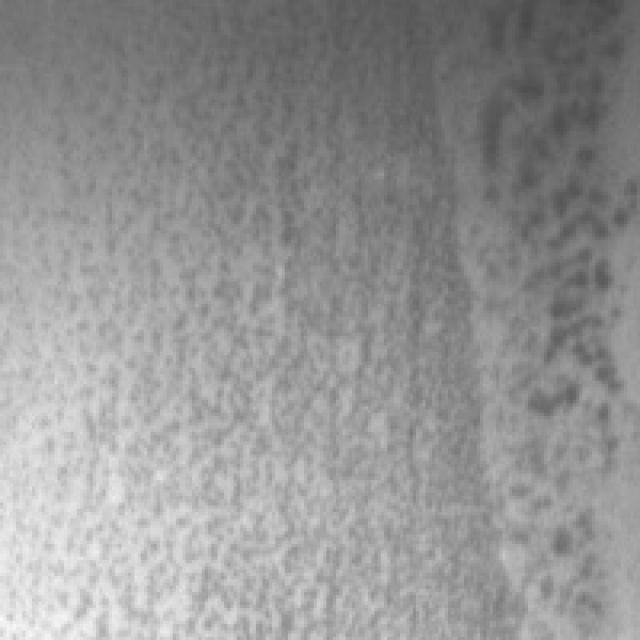pitted_surface: (9, 3, 490, 630), (480, 0, 640, 586)
